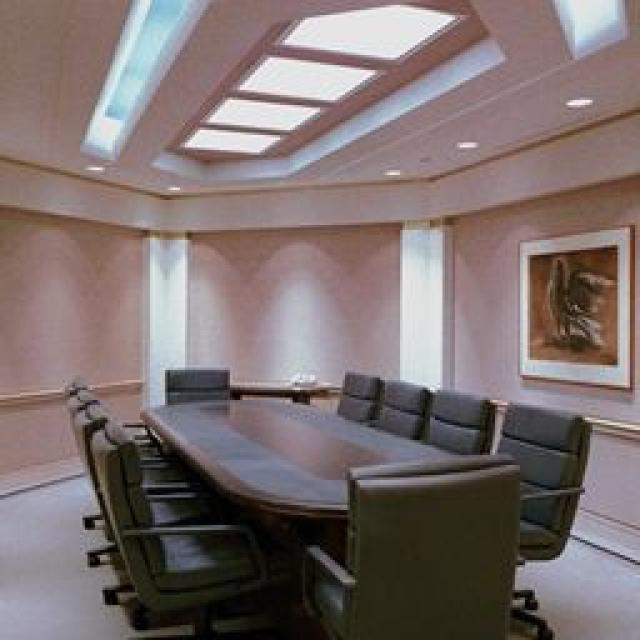ceiling beam: (0, 0, 635, 192)
ceiling lamps: (80, 0, 190, 155), (280, 5, 462, 58), (232, 48, 375, 102), (202, 98, 312, 132), (559, 0, 625, 42), (178, 128, 272, 155), (560, 92, 598, 108), (450, 132, 478, 150)
chair: (495, 400, 590, 560), (420, 382, 498, 450), (375, 375, 428, 440), (330, 368, 382, 425), (162, 368, 228, 400)
chair -occluded-: (88, 412, 272, 630), (300, 450, 508, 635)
conference table: (140, 395, 500, 510)
lots of chairs: (62, 375, 115, 435)
painting crop: (515, 218, 635, 390)
phone charger: (288, 370, 318, 382)
small table part: (222, 378, 332, 400)
